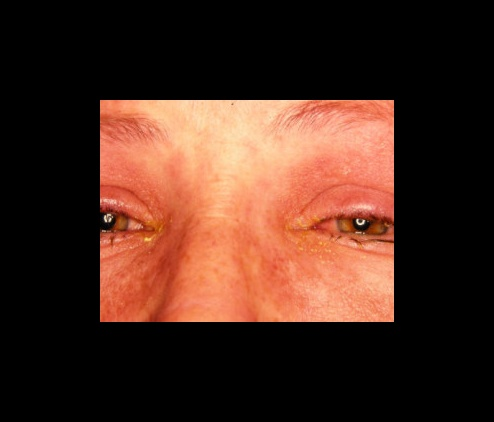SJS-TEN: (97, 97, 397, 323)
